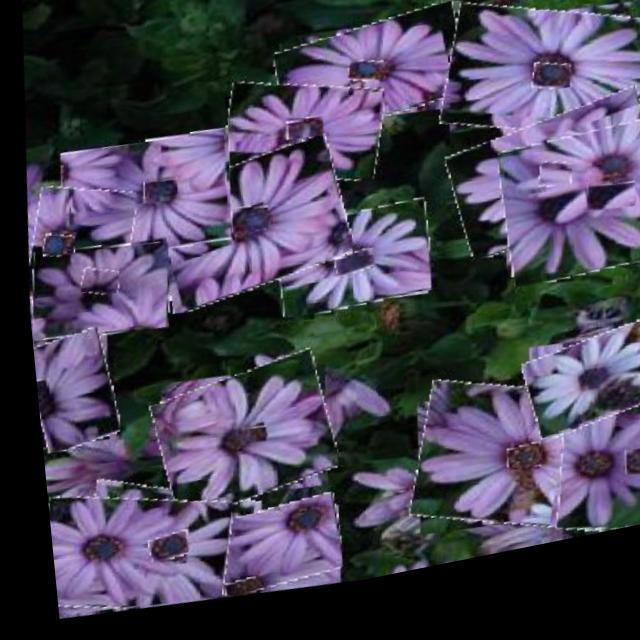Flower: (391, 373, 632, 577), (135, 139, 352, 327), (429, 1, 640, 187), (435, 105, 640, 285), (137, 353, 333, 533), (56, 463, 256, 628), (266, 12, 470, 162), (38, 473, 228, 629), (116, 494, 337, 625), (483, 133, 640, 317), (50, 126, 234, 275), (212, 74, 387, 212), (263, 205, 430, 338), (19, 232, 170, 353), (15, 175, 138, 318), (535, 403, 640, 561), (509, 340, 640, 465), (26, 324, 116, 457), (578, 202, 631, 239), (526, 79, 570, 115), (72, 266, 116, 302), (134, 533, 179, 568), (224, 211, 266, 247), (280, 125, 322, 156), (344, 71, 386, 101), (327, 260, 369, 290), (495, 459, 533, 492), (137, 181, 176, 212), (531, 180, 567, 213), (36, 231, 72, 261), (611, 468, 640, 501), (210, 582, 246, 606), (567, 392, 595, 416), (231, 432, 259, 455), (29, 378, 43, 401)
